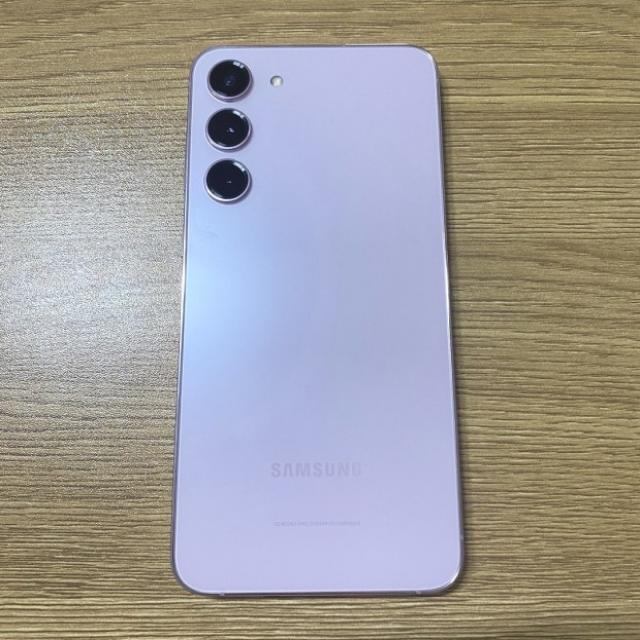phone: (170, 46, 464, 602)
